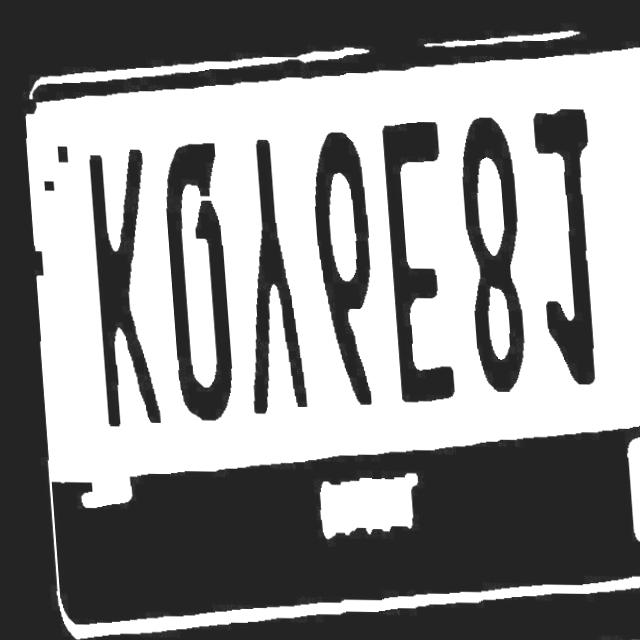1: (523, 95, 630, 388)
6: (305, 133, 388, 408)
8: (442, 114, 538, 398)
e: (370, 113, 462, 409)
k: (77, 141, 171, 430)
q: (154, 137, 239, 432)
y: (229, 142, 313, 422)
